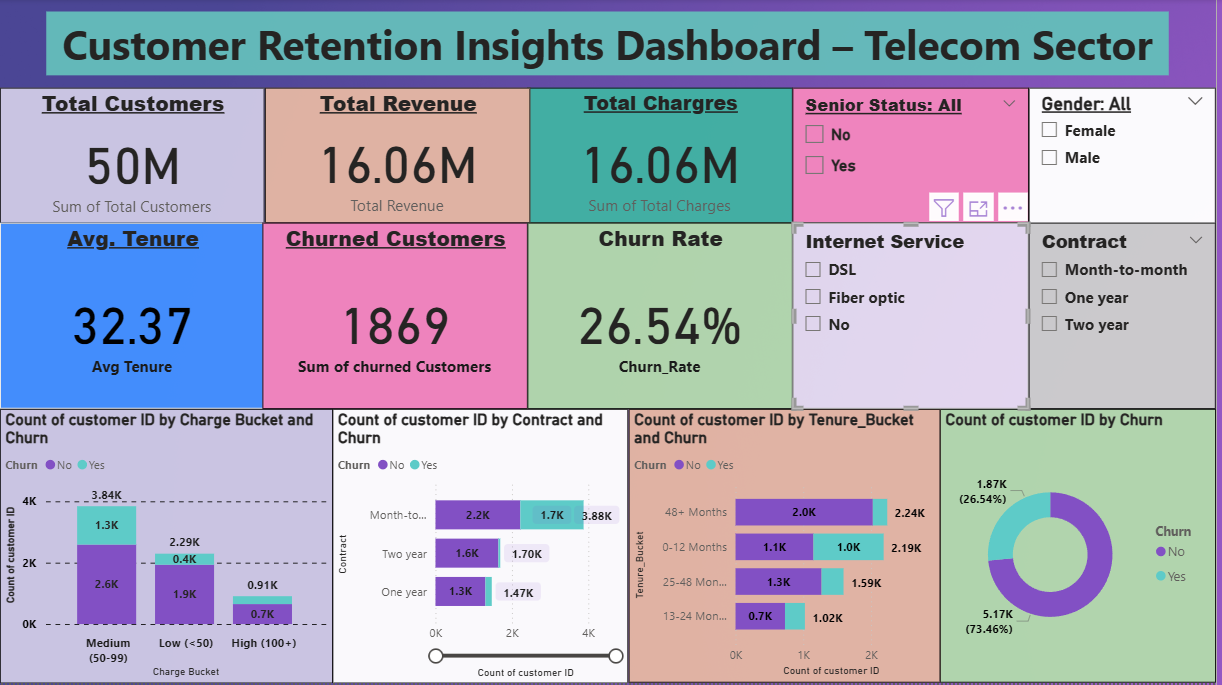

Layout of this report page (visuals, bound fields, positions):
{"tool":"powerbi","page":{"name":"churn data","canvas":[1280,720],"ordinal":0},"visuals":[{"type":"card","title":"Total Customers","fields":{"Values":["Sum(Customer Data.Total Customers)"]},"box":[0,92.9,278.6,142.9],"z":0},{"type":"card","title":"Total Chargres","fields":{"Values":["Sum(Customer Data.Total Charges)"]},"box":[555.3,93.4,278.9,142.1],"z":1000},{"type":"card","title":"Total Revenue","fields":{"Values":["Customer Data.Total Revenue"]},"box":[278.9,93.4,278.9,142.1],"z":2000},{"type":"card","title":"Avg. Tenure","fields":{"Values":["Customer Data.Avg Tenure"]},"box":[0,235,278.8,196.2],"z":3000},{"type":"card","title":"Churned Customers","fields":{"Values":["Sum(Customer Data.churned Customers)"]},"box":[276.3,235.5,278.9,196.1],"z":4000},{"type":"card","title":"Churn Rate","fields":{"Values":["Customer Data.Churn_Rate"]},"box":[555.3,235.5,278.9,196.1],"z":5000},{"type":"donutChart","fields":{"Category":["Customer Data.Churn"],"Y":["CountNonNull(Customer Data.customer ID)"]},"box":[989.5,431.6,290.8,288.2],"z":6000},{"type":"barChart","fields":{"Series":["Customer Data.Churn"],"Category":["Customer Data.Contract"],"Y":["CountNonNull(Customer Data.customer ID)"]},"box":[350,431.4,311.4,288.6],"z":7000},{"type":"barChart","fields":{"Series":["Customer Data.Churn"],"Category":["Customer Data.Tenure_Bucket"],"Y":["CountNonNull(Customer Data.customer ID)"]},"box":[661.8,431.6,327.6,288.2],"z":8000},{"type":"slicer","fields":{"Values":["Customer Data.gender"]},"box":[1082.9,92.9,197.1,142.9],"z":9000},{"type":"slicer","fields":{"Values":["Customer Data.Contract"]},"box":[1082.9,235.7,197.1,195.7],"z":10000},{"type":"slicer","fields":{"Values":["Customer Data.Internet Service"]},"box":[834.2,235.5,248.7,196.1],"z":11000},{"type":"slicer","fields":{"Values":["Customer Data.Senior Status"]},"box":[834.2,93.4,248.7,142.1],"z":12000},{"type":"columnChart","fields":{"Category":["Customer Data.Charge Bucket"],"Y":["CountNonNull(Customer Data.customer ID)"],"Series":["Customer Data.Churn"]},"box":[0,431.4,350,288.6],"z":13000},{"type":"textbox","box":[48.6,12.9,1181.4,67.1],"z":14000}]}

Visuals, with their boxes in screenshot pixels (x1, y1, x2, y2), scaled from the page's 1280x720 canvas onto the 1222x685 screenshot:
"Total Customers" card: rect(0, 88, 266, 224)
"Total Chargres" card: rect(530, 89, 796, 224)
"Total Revenue" card: rect(266, 89, 533, 224)
"Avg. Tenure" card: rect(0, 224, 266, 410)
"Churned Customers" card: rect(264, 224, 530, 411)
"Churn Rate" card: rect(530, 224, 796, 411)
donutChart - Customer Data.Churn x CountNonNull(Customer Data.customer ID): rect(945, 411, 1221, 684)
barChart - Customer Data.Churn x Customer Data.Contract: rect(334, 410, 631, 684)
barChart - Customer Data.Churn x Customer Data.Tenure_Bucket: rect(632, 411, 945, 684)
slicer - Customer Data.gender: rect(1034, 88, 1221, 224)
slicer - Customer Data.Contract: rect(1034, 224, 1221, 410)
slicer - Customer Data.Internet Service: rect(796, 224, 1034, 411)
slicer - Customer Data.Senior Status: rect(796, 89, 1034, 224)
columnChart - Customer Data.Charge Bucket x CountNonNull(Customer Data.customer ID): rect(0, 410, 334, 684)
textbox: rect(46, 12, 1174, 76)
